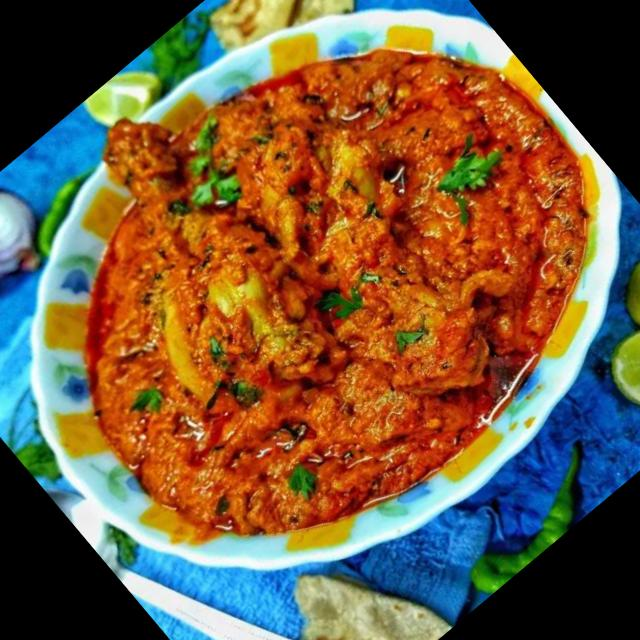chicken: (17, 0, 616, 578)
